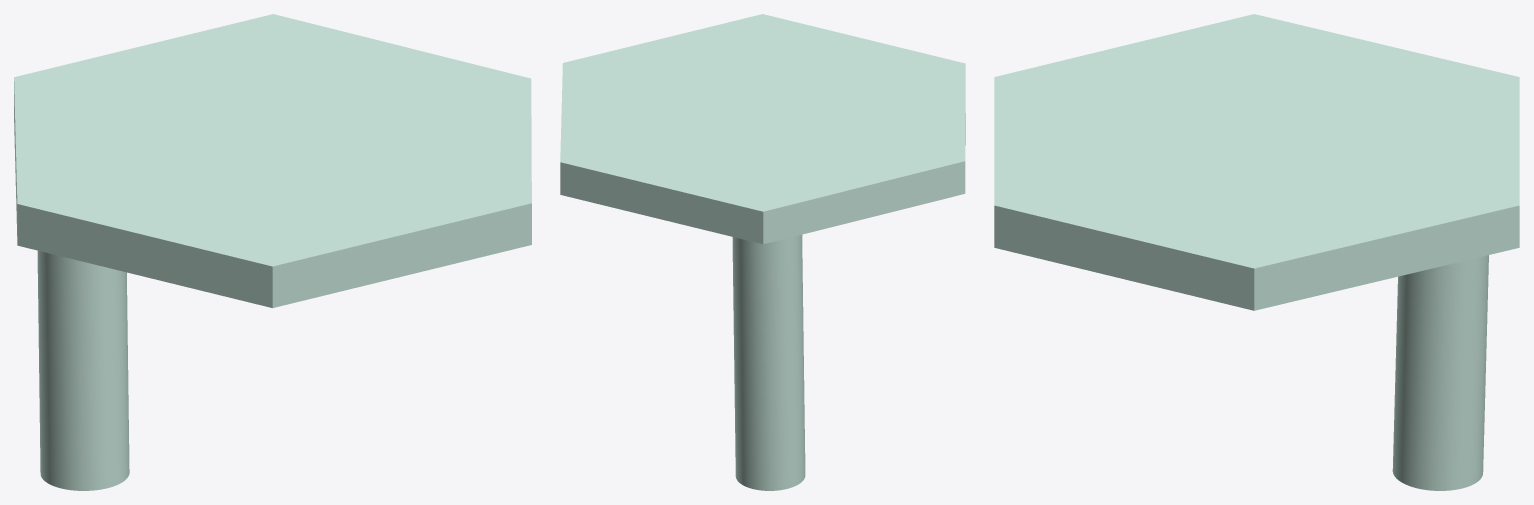
3 views of the same model, side by side, from view 1: azimuth 30°, elevation 25°; view 2: azimuth 150°, elevation 25°; view 3: azimuth 270°, elevation 25° (orthographic). The views are drawn at different scales.
Parts seen in each view (by area): view 1: Renderer Node; view 2: Renderer Node; view 3: Renderer Node.
Boxes of the visible parts, x1,y1,x2,y2 form: Renderer Node: (14,14,531,490); Renderer Node: (560,14,965,490); Renderer Node: (994,14,1519,490).
Size of the model in its own units: 1.21 by 0.8435 by 1.05.
